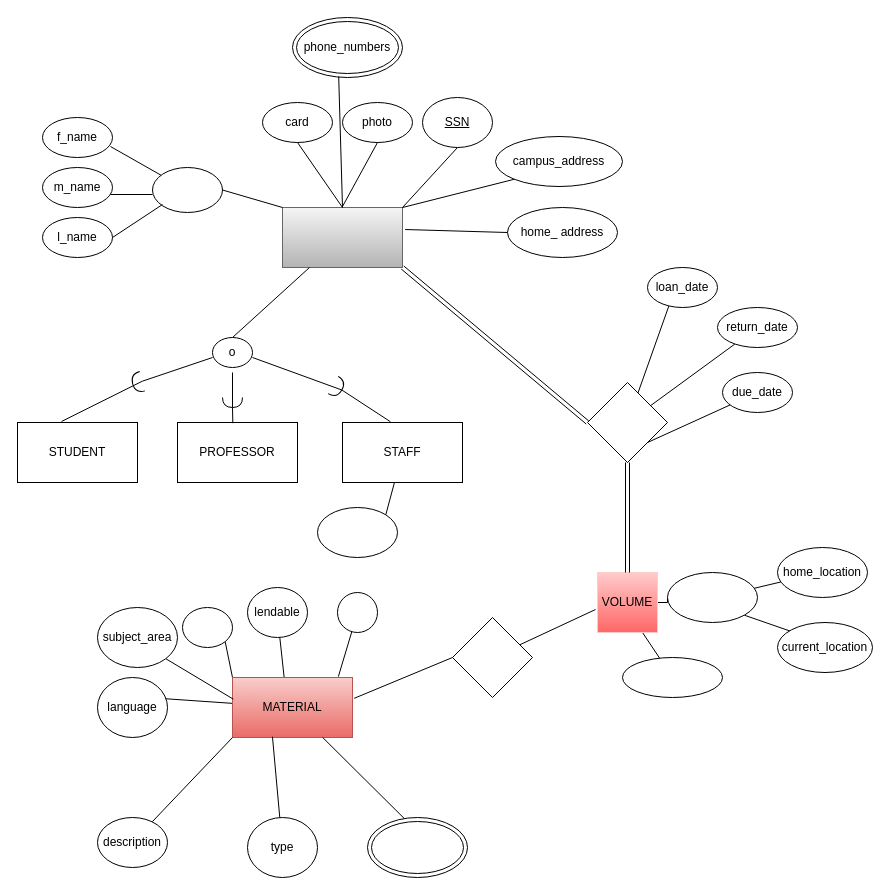
This 890x895 diagram has some shape labels left out. The shapes that lost their labels are listed below. From the top down, each one's box as (x1, y1, x2, y2) in pixels, then its label:
(152, 166, 222, 212): name
(282, 206, 402, 268): MEMBER
(586, 382, 668, 462): LOAN
(316, 506, 398, 558): job_title
(336, 592, 378, 632): ISBN
(666, 572, 758, 622): location
(182, 606, 232, 648): title
(452, 616, 532, 698): COPY_OF
(622, 656, 722, 698): id
(366, 816, 468, 878): author
